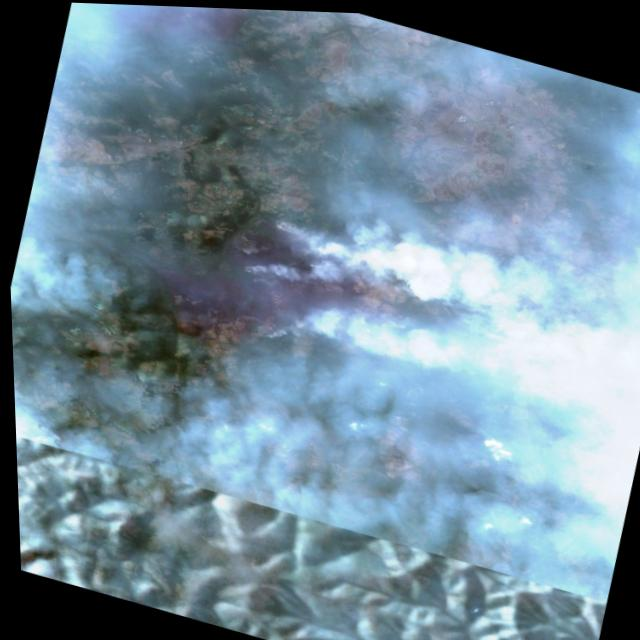fire: (261, 206, 320, 249), (248, 312, 302, 355), (230, 251, 290, 286)
